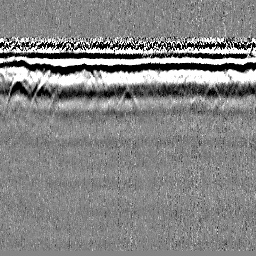cavity: (116, 84, 140, 109)
